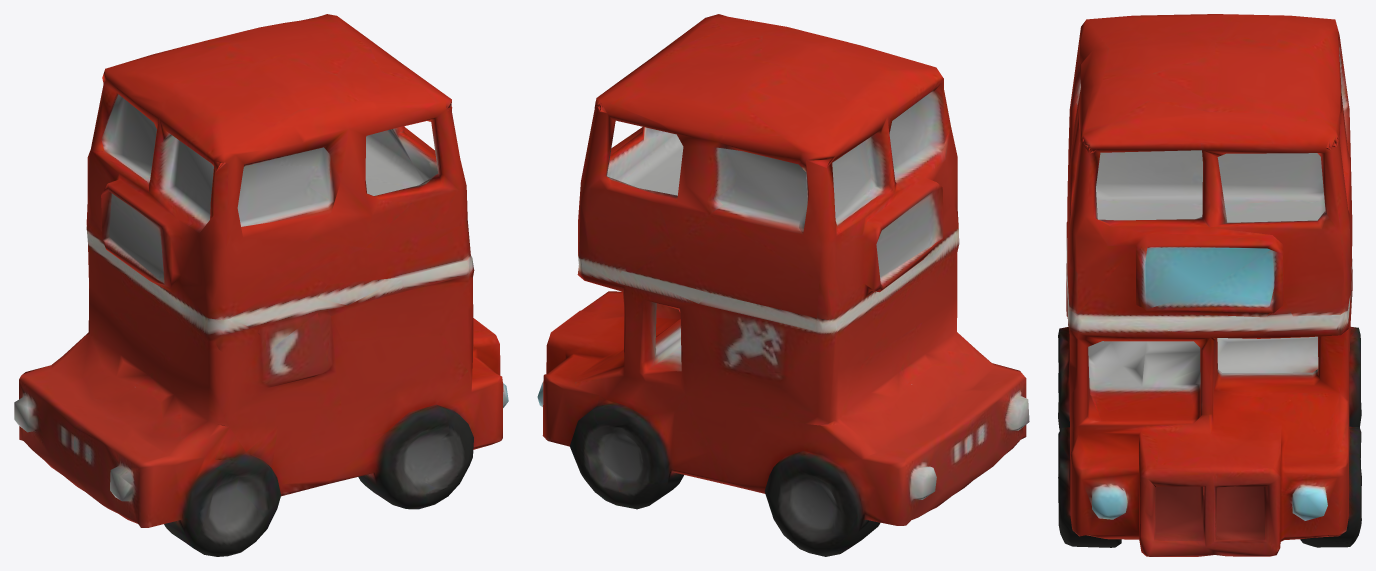
The model's file is bus.glb.
The picture shows the model from 3 angles, left to right: view 1: azimuth 30°, elevation 25°; view 2: azimuth 150°, elevation 25°; view 3: azimuth 270°, elevation 25°; orthographic projection. The views are drawn at different scales.
Parts seen in each view (by area): view 1: tripo_node_a1f2d151-b34a-481f-9660-0926d516464d; view 2: tripo_node_a1f2d151-b34a-481f-9660-0926d516464d; view 3: tripo_node_a1f2d151-b34a-481f-9660-0926d516464d.
Part boxes in pixels (x1,y1,x2,y2): tripo_node_a1f2d151-b34a-481f-9660-0926d516464d: (14, 14, 508, 556); tripo_node_a1f2d151-b34a-481f-9660-0926d516464d: (537, 14, 1029, 556); tripo_node_a1f2d151-b34a-481f-9660-0926d516464d: (1058, 14, 1361, 556).
Bounding box in the file's own units: 0.9961 × 1 × 0.6142.
1 material, 1 textured.
